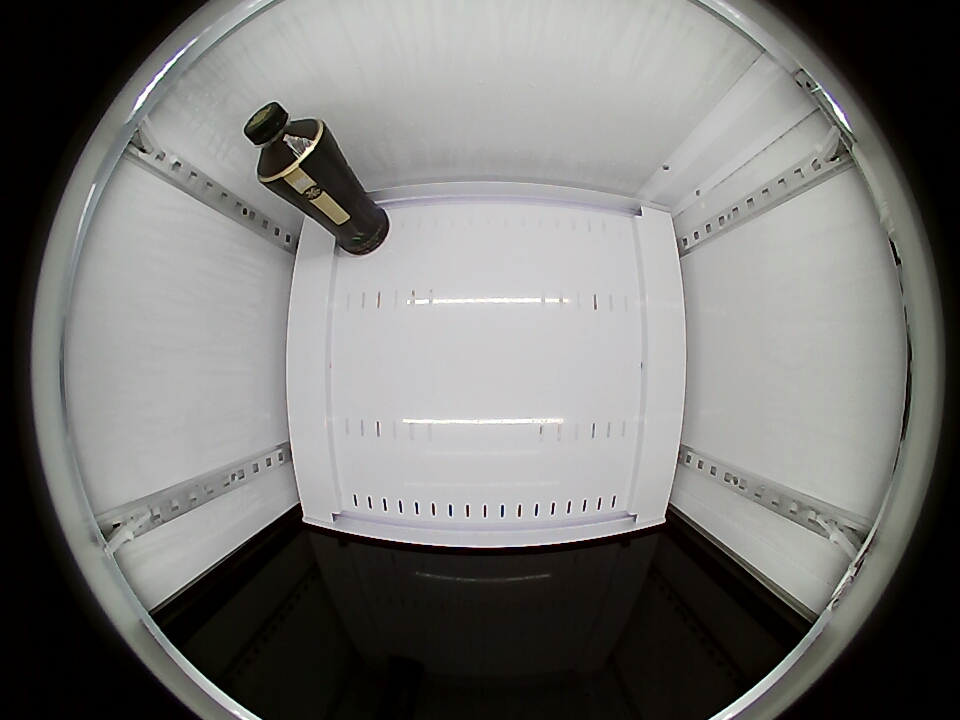rancha-1: (244, 101, 324, 186)
